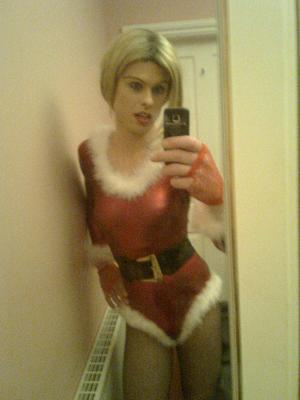person: (78, 30, 227, 400)
